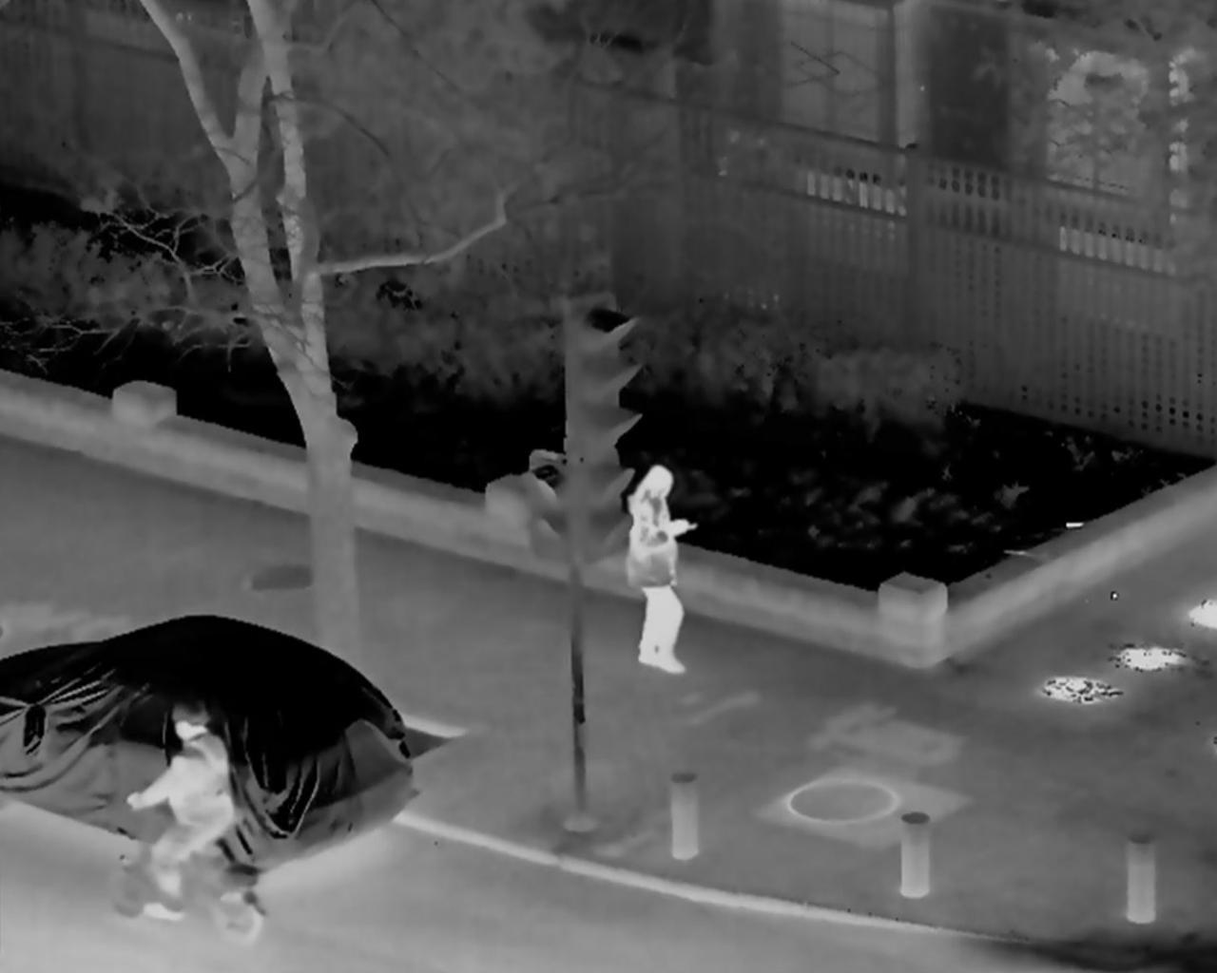person: (118, 700, 242, 916), (626, 466, 701, 677)
